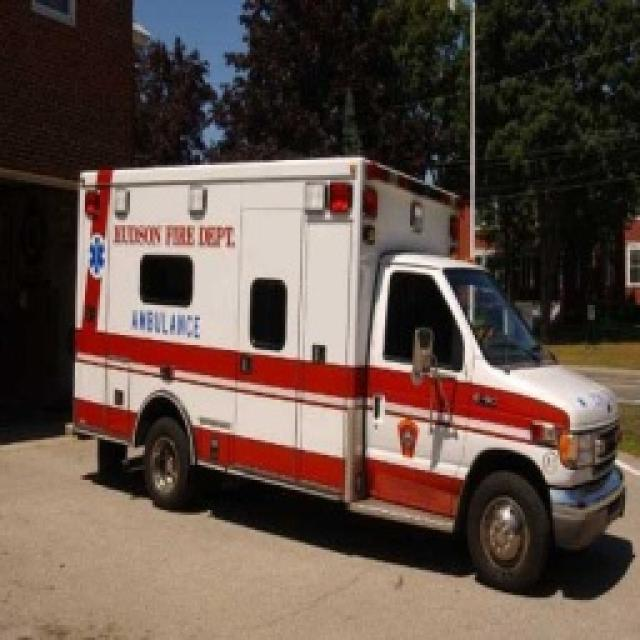emergency-vehicle: (74, 157, 626, 592)
